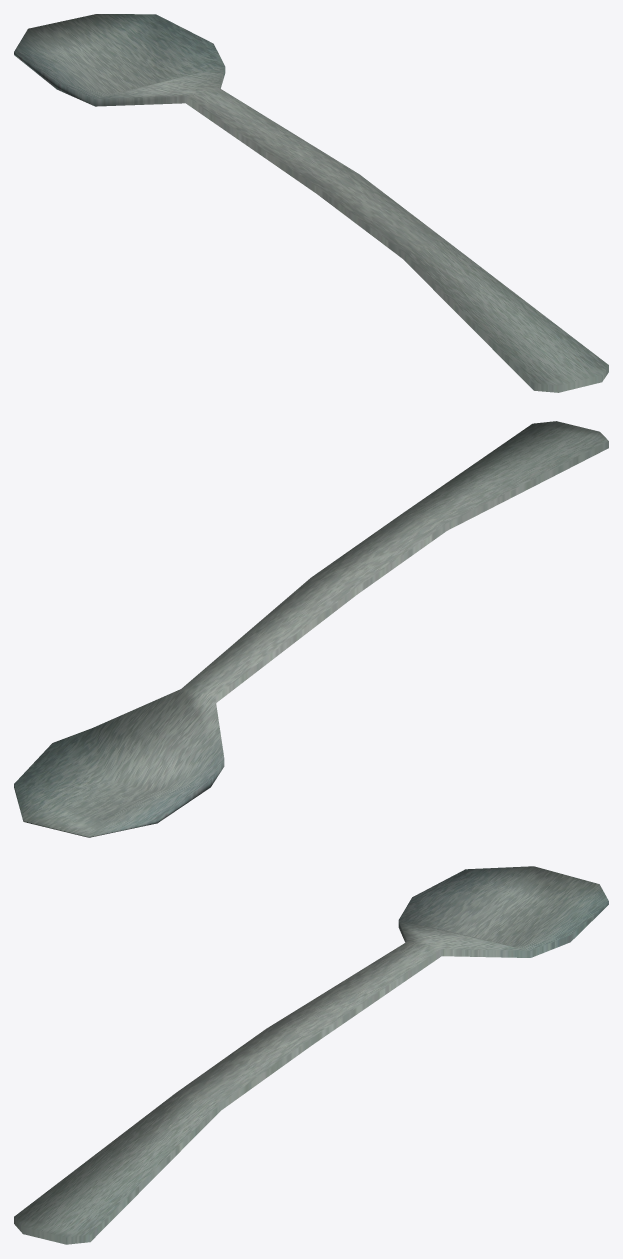
Rendered from teaspoon.obj.
The picture shows the model from 3 angles, top to bottom: view 1: azimuth 30°, elevation 25°; view 2: azimuth 150°, elevation 25°; view 3: azimuth 330°, elevation 25°; orthographic projection.
Visible parts, largest first — view 1: EmptyMesh; view 2: EmptyMesh; view 3: EmptyMesh.
Boxes of the visible parts, left/top/right/bottom form: EmptyMesh: left=14, top=14, right=608, bottom=392; EmptyMesh: left=14, top=421, right=608, bottom=837; EmptyMesh: left=14, top=866, right=608, bottom=1244.
Bounding box in the file's own units: 0.1111 × 0.0399 × 0.6359.
Materials: 1 (1 with a texture image).
